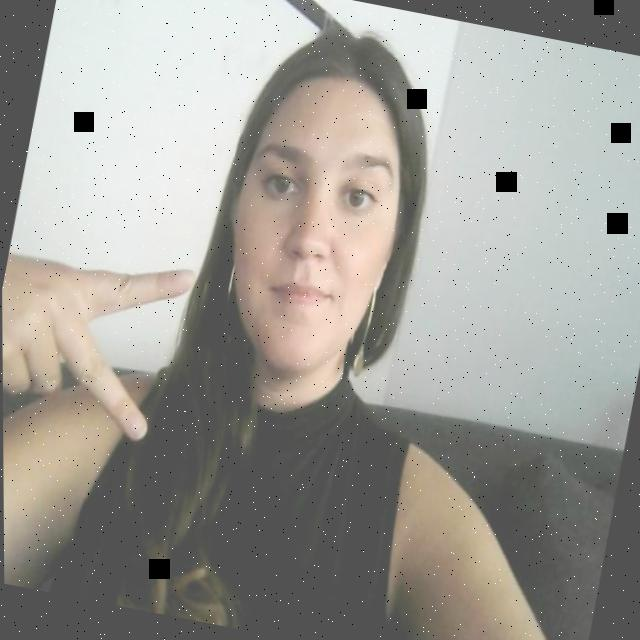Scissors: (1, 218, 215, 454)
